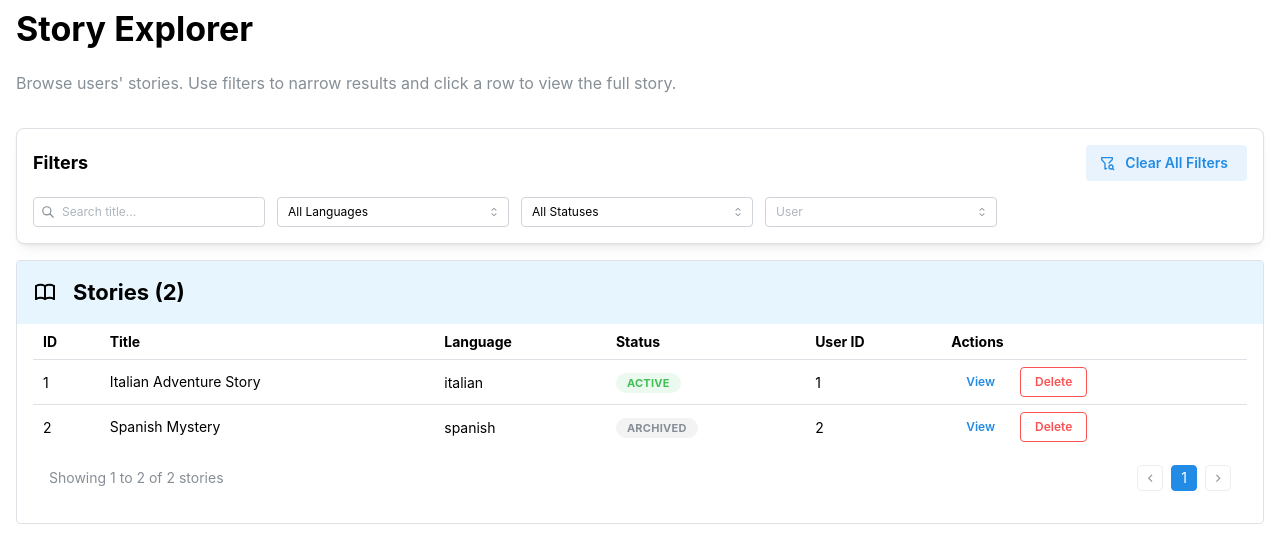
Scenario: StoryExplorerPage › Filtering › allows selecting language filter
// Select Italian language filter
Click the 1st field showing "All Languages": (393, 212) [277,197,509,227]
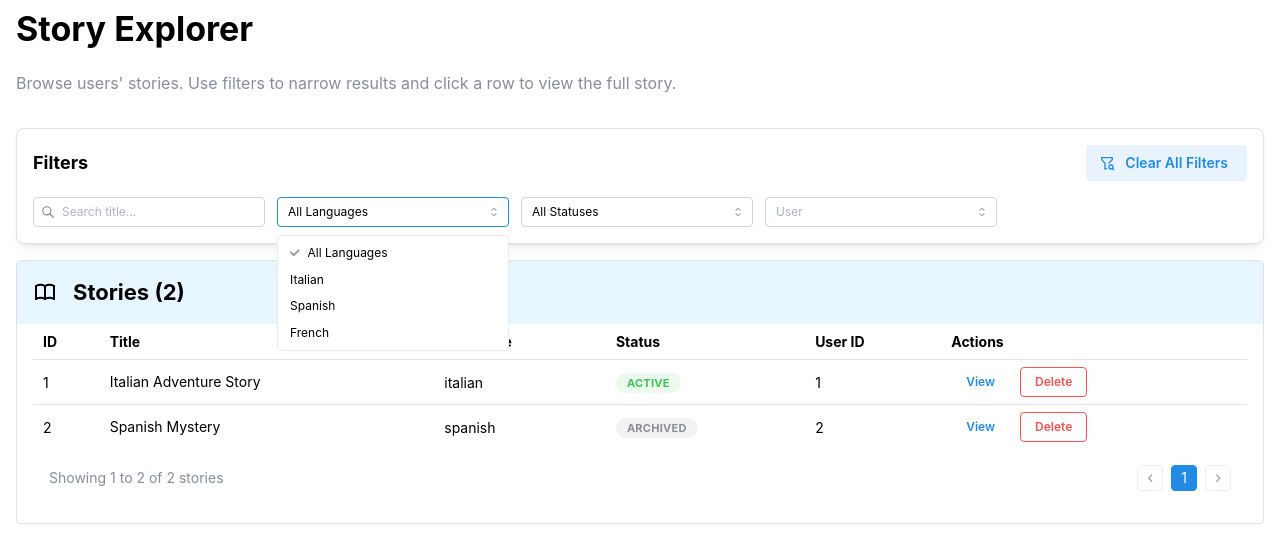
Click the option "Italian": (307, 279) [290,272,324,287]
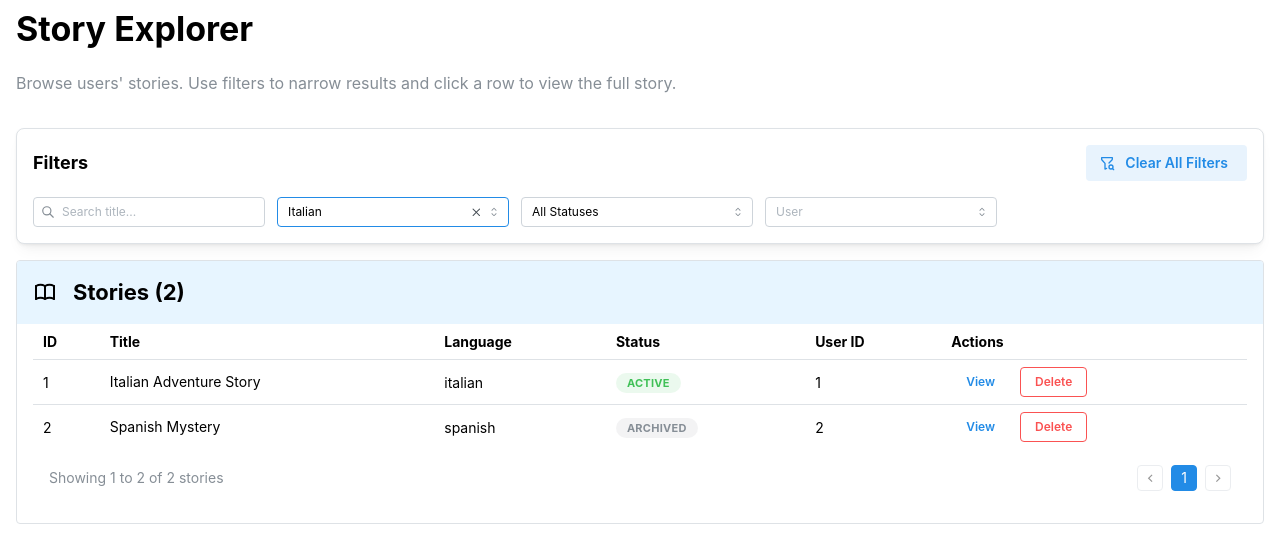
Expected: the 1st field showing "Italian" is shown, [277,197,509,227]
